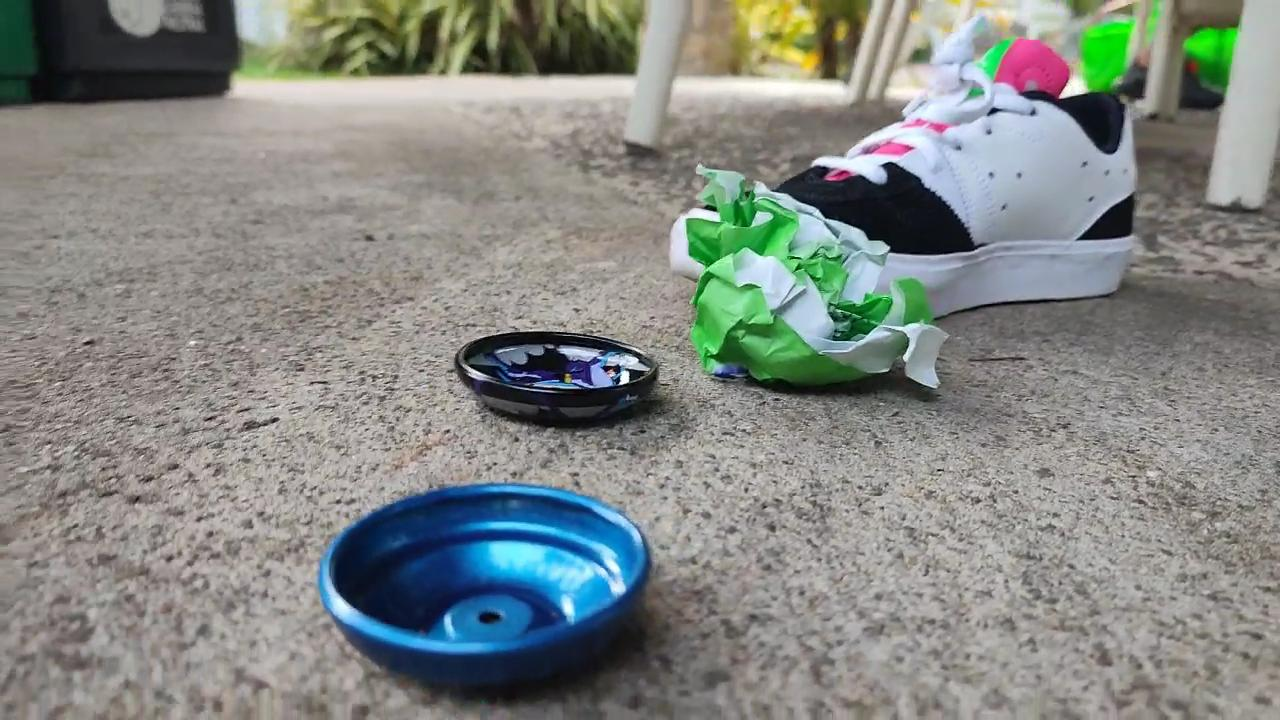Paper: (672, 159, 954, 402)
